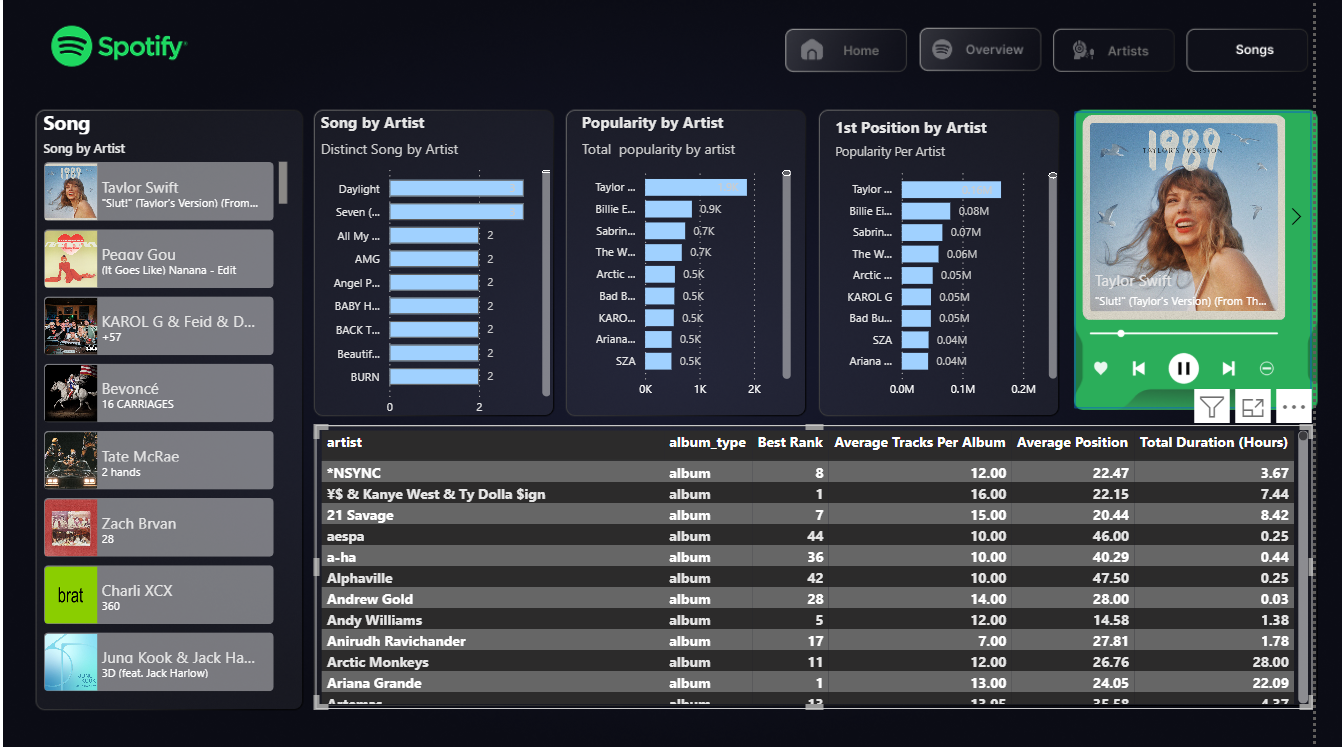

The page's visual inventory and layout, read from the dashboard file:
{"tool":"powerbi","page":{"name":"Song ","canvas":[1280,720],"ordinal":3},"visuals":[{"type":"actionButton","box":[905.5,39.4,115.1,40.9],"z":0},{"type":"shape","box":[558.7,121.1,230.2,298.3],"z":0,"group":"g7"},{"type":"clusteredBarChart","title":"Song by Artist","fields":{"Category":["Top-50-world.song"],"Y":["CountNonNull(Top-50-world.artist)"]},"box":[315,127.4,228.6,298.3],"z":0,"group":"g6"},{"type":"group","id":"g1","title":"Group 2","box":[315,130.7,242.3,266.5],"z":0,"group":"g3"},{"type":"clusteredBarChart","title":"Hit Song","fields":{"Category":["Top-50-world.song"],"Y":["Sum(Top-50-world.position)"]},"box":[816.1,133.3,221.1,277.1],"z":0,"group":"g8"},{"type":"actionButton","box":[1034.2,48.5,115.1,40.9],"z":1},{"type":"actionButton","box":[1161.4,48.5,113.6,40.9],"z":2},{"type":"actionButton","box":[128.3,428.3,116.7,40],"z":3},{"type":"actionButton","box":[776.8,50,115.1,39.4],"z":4},{"type":"shape","box":[1041.4,90,238.6,300],"z":5},{"type":"group","id":"g2","title":"Group 1","box":[1034.2,122.7,245.3,337.7],"z":6},{"type":"advancedSlicerVisual","title":"Song","fields":{"Values":["Top-50-world.song"],"Label":["Min(Top-50-world.artist)"]},"box":[51.5,134.8,242.3,563.3],"z":7},{"type":"group","id":"g3","title":"Group 3","box":[315,130.7,242.3,266.5],"z":8},{"type":"tableEx","fields":{"Values":["Top-50-world.song","Top-50-world.album_type","Top-50-world.Average Popularity","Top-50-world.Min Popularity","Top-50-world.Max Popularity","Top-50-world.release_date.Variation.Date Hierarchy.Year","Top-50-world.release_date.Variation.Date Hierarchy.Quarter","Top-50-world.release_date.Variation.Date Hierarchy.Month","Top-50-world.release_date.Variation.Date Hierarchy.Day"]},"box":[313.4,428.5,949.4,269.5],"z":11},{"type":"group","id":"g4","title":"Group 2","box":[365.4,397.2,242.3,266.5],"z":12},{"type":"group","id":"g5","title":"Group 2","box":[612.2,390.7,228.6,304.4],"z":13},{"type":"group","id":"g6","title":"Group 3","box":[315,78.7,334.6,346.8],"z":14},{"type":"group","id":"g7","title":"Group 4","box":[558.7,121.1,230.2,298.3],"z":15},{"type":"group","id":"g8","title":"Group 5","box":[811.6,124.2,230.2,298.3],"z":16},{"type":"shape","box":[420.1,78.7,230.2,298.3],"z":1000,"group":"g6"},{"type":"shape","box":[811.6,124.2,230.2,298.3],"z":1000,"group":"g8"},{"type":"clusteredBarChart","title":"Songs Popularity","fields":{"Category":["Top-50-world.song"],"Y":["Sum(Top-50-world.popularity)"]},"box":[565.1,128.5,221.1,277.1],"z":1000,"group":"g7"},{"type":"advancedSlicerVisual","title":"Song","fields":{"Values":["Top-50-world.song"],"Label":["Min(Top-50-world.artist)"]},"box":[1034.2,122.7,245.3,207.4],"z":7000,"group":"g2"},{"type":"image","box":[1034.2,259,245.3,201.4],"z":8000,"group":"g2"},{"type":"shape","box":[1053.9,134.8,225.6,281.6],"z":9000,"group":"g2"},{"type":"shape","box":[315,130.7,242.3,266.5],"z":25002,"group":"g1"},{"type":"shape","box":[612.2,390.7,228.6,304.4],"z":25002,"group":"g5"},{"type":"shape","box":[365.4,397.2,242.3,266.5],"z":25002,"group":"g4"}]}

Visuals, with their boxes in screenshot pixels (x1, y1, x2, y2), scaled from the page's 1280x720 canvas onto the 1342x748 screenshot:
actionButton: rect(949, 41, 1070, 83)
shape: rect(586, 126, 827, 436)
"Song by Artist" clusteredBarChart: rect(330, 132, 570, 442)
"Group 2" group: rect(330, 136, 584, 413)
"Hit Song" clusteredBarChart: rect(856, 138, 1087, 426)
actionButton: rect(1084, 50, 1205, 93)
actionButton: rect(1218, 50, 1337, 93)
actionButton: rect(135, 445, 257, 487)
actionButton: rect(814, 52, 935, 93)
shape: rect(1092, 94, 1341, 405)
"Group 1" group: rect(1084, 127, 1341, 478)
"Song" advancedSlicerVisual: rect(54, 140, 308, 725)
"Group 3" group: rect(330, 136, 584, 413)
tableEx - Top-50-world.song x Top-50-world.album_type: rect(329, 445, 1324, 725)
"Group 2" group: rect(383, 413, 637, 690)
"Group 2" group: rect(642, 406, 882, 722)
"Group 3" group: rect(330, 82, 681, 442)
"Group 4" group: rect(586, 126, 827, 436)
"Group 5" group: rect(851, 129, 1092, 439)
shape: rect(440, 82, 682, 392)
shape: rect(851, 129, 1092, 439)
"Songs Popularity" clusteredBarChart: rect(592, 133, 824, 421)
"Song" advancedSlicerVisual: rect(1084, 127, 1341, 343)
image: rect(1084, 269, 1341, 478)
shape: rect(1105, 140, 1341, 433)
shape: rect(330, 136, 584, 413)
shape: rect(642, 406, 882, 722)
shape: rect(383, 413, 637, 690)
